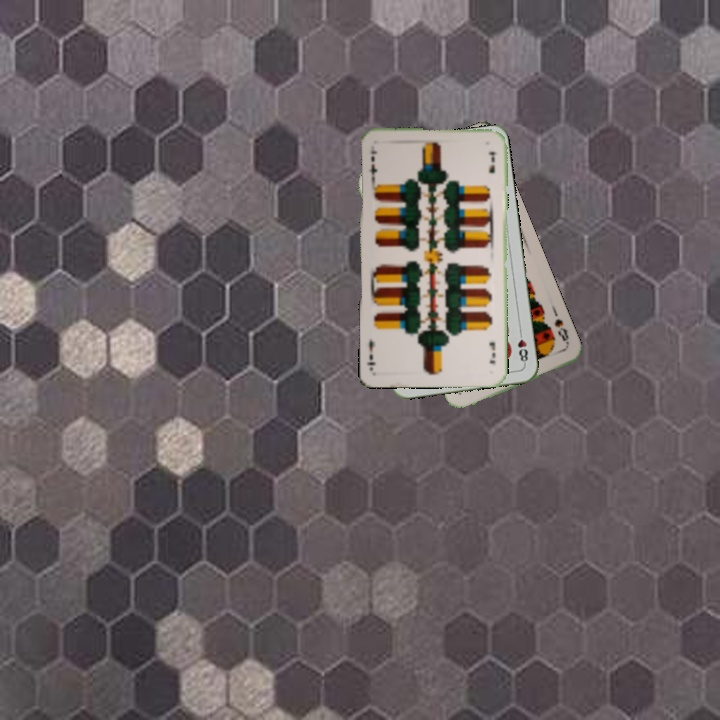E7: (365, 146, 380, 182), (485, 338, 498, 367)
H8: (514, 326, 530, 367)
S8: (550, 314, 572, 352)
